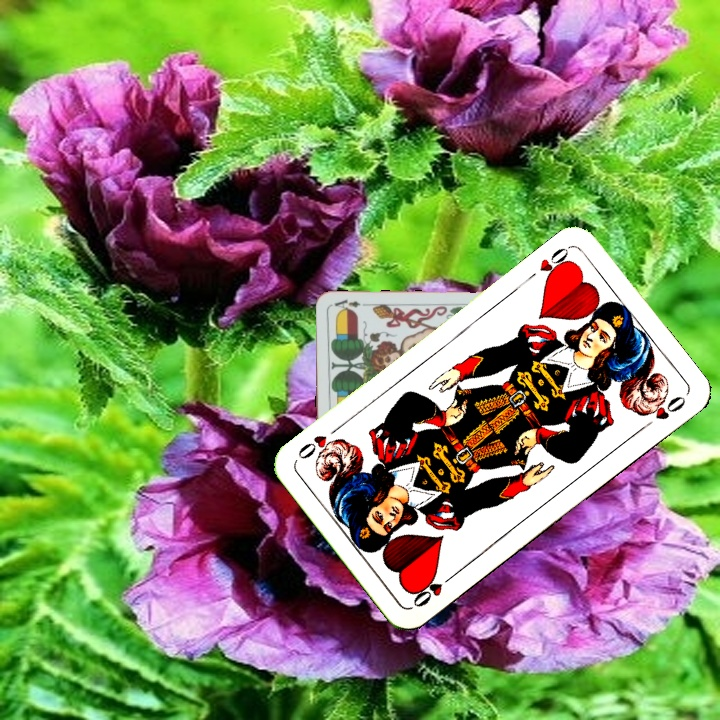HO: (407, 569, 459, 610), (535, 242, 575, 285)
